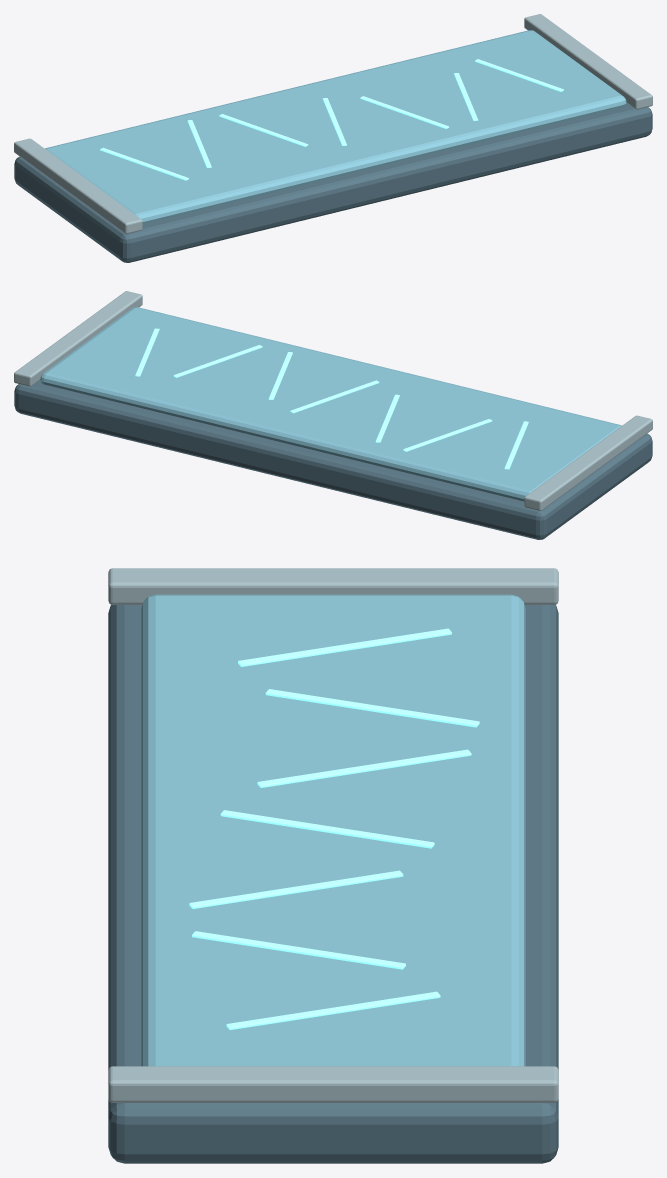
Rendered from SM_IceDeck.fbx.
The picture shows the model from 3 angles, top to bottom: view 1: azimuth 30°, elevation 25°; view 2: azimuth 150°, elevation 25°; view 3: azimuth 270°, elevation 25°; orthographic projection. The views are drawn at different scales.
Parts seen in each view (by area): view 1: SM_IceDeck; view 2: SM_IceDeck; view 3: SM_IceDeck.
Boxes of the visible parts, x1=… form: SM_IceDeck: x1=14, y1=14, x2=652, y2=262; SM_IceDeck: x1=14, y1=291, x2=652, y2=539; SM_IceDeck: x1=108, y1=568, x2=558, y2=1163.
Bounding box in the file's own units: 300 × 110 × 23.
